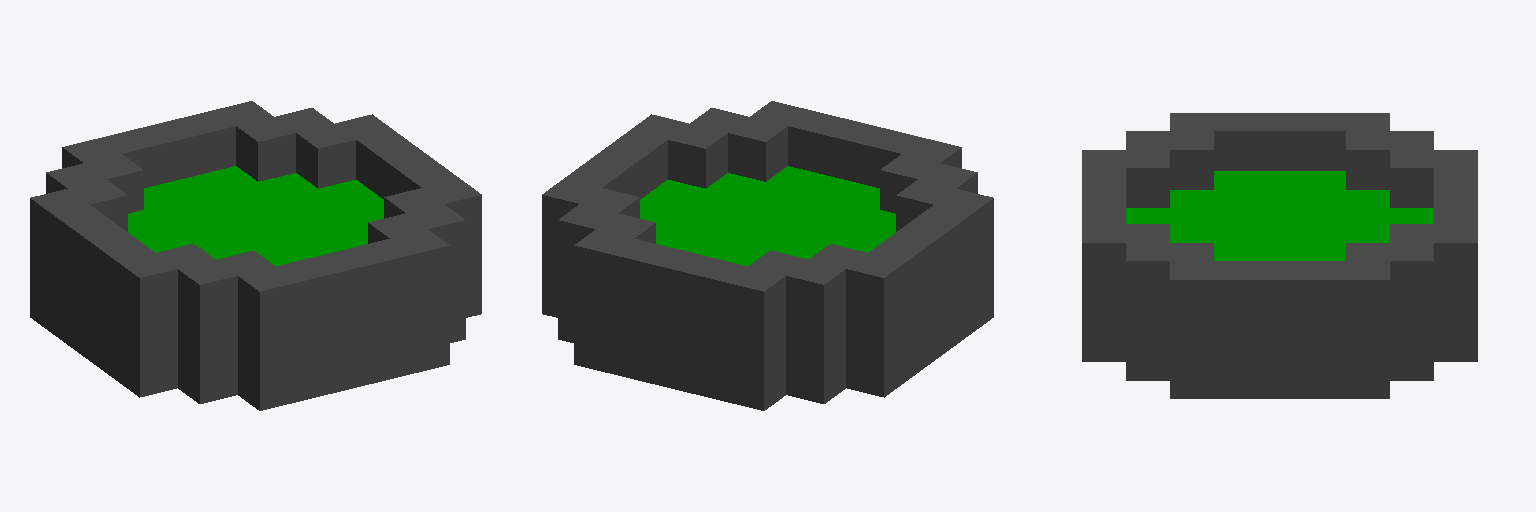
3 views of the same model, side by side, from view 1: azimuth 30°, elevation 25°; view 2: azimuth 150°, elevation 25°; view 3: azimuth 270°, elevation 25° (orthographic).
Parts seen in each view (by area): view 1: Matrix; view 2: Matrix; view 3: Matrix.
Boxes of the visible parts, x1=… form: Matrix: x1=30, y1=101, x2=481, y2=410; Matrix: x1=542, y1=101, x2=993, y2=410; Matrix: x1=1082, y1=113, x2=1477, y2=398.
Bounding box in the file's own units: 9 × 3 × 9.
Materials: 1 (1 with a texture image).